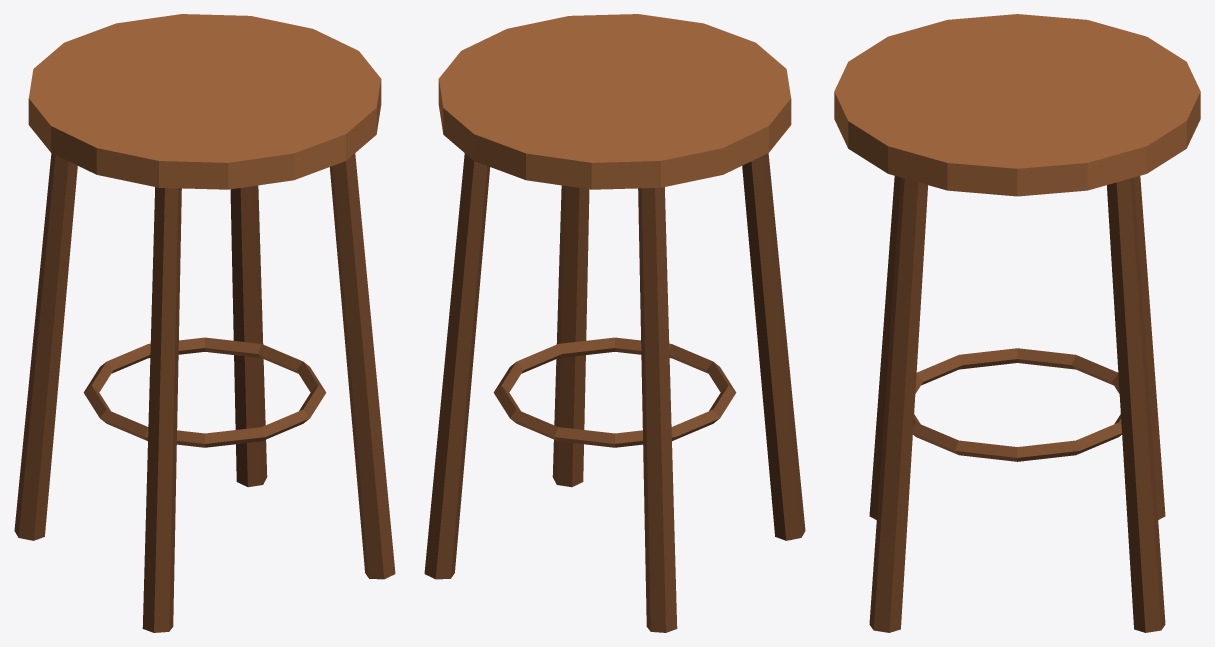
File: stool.glb
3 renders of one model, left to right at view 1: azimuth 30°, elevation 25°; view 2: azimuth 150°, elevation 25°; view 3: azimuth 270°, elevation 25°, orthographic. The views are drawn at different scales.
Visible parts, largest first — view 1: stool; view 2: stool; view 3: stool.
Boxes of the visible parts, <box> form: stool: <box>14,14,395,632</box>; stool: <box>424,14,805,632</box>; stool: <box>834,14,1200,632</box>.
Bounding box in the file's own units: 0.36 × 0.5214 × 0.36.
